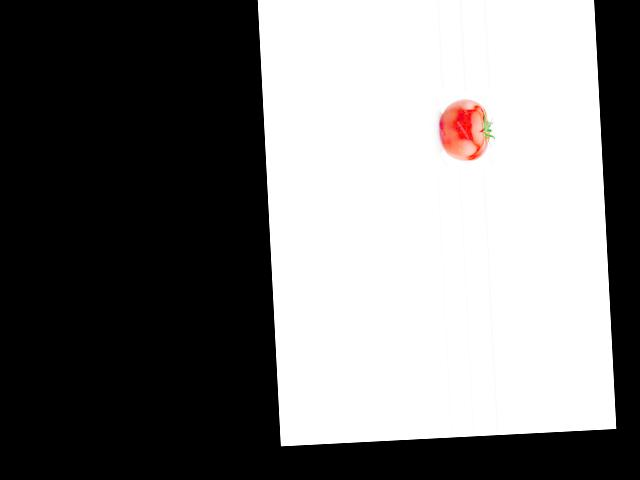tomato: (439, 98, 490, 162)
